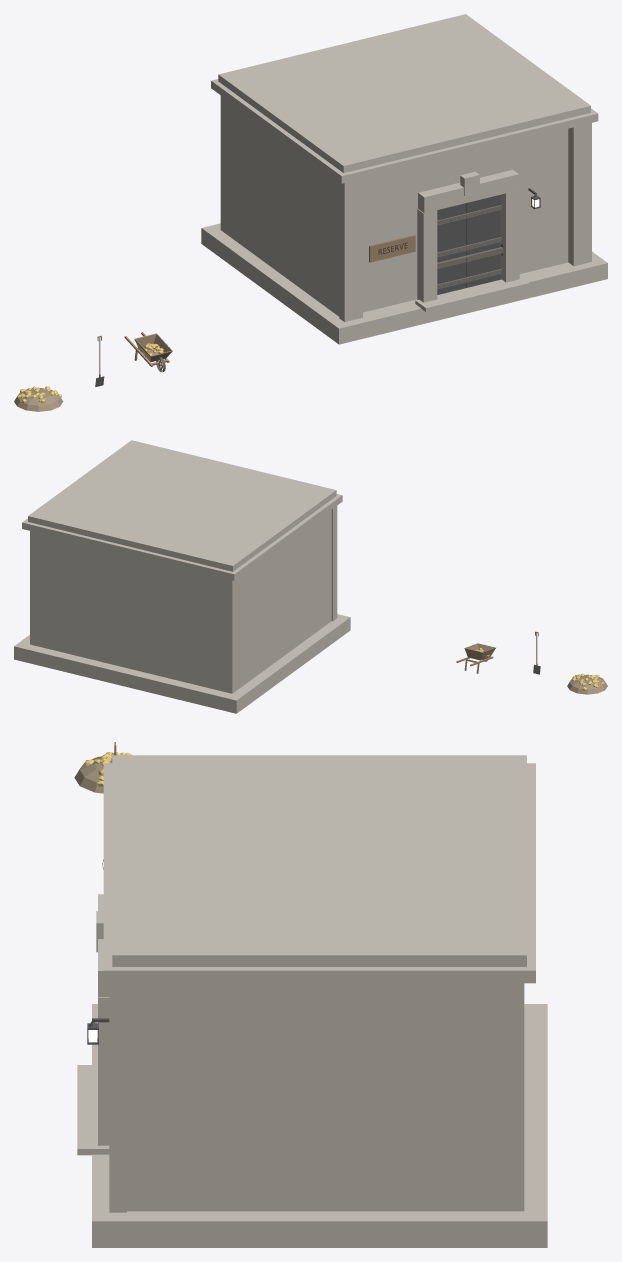
The model's file is stockpile_kit.glb.
3 renders of one model, top to bottom at view 1: azimuth 30°, elevation 25°; view 2: azimuth 150°, elevation 25°; view 3: azimuth 270°, elevation 25°, orthographic. The views are drawn at different scales.
Visible parts, largest first — view 1: Reserve_Stone, Reserve_Door, Reserve_Bands, Reserve_Placard, Barrow_Frame, Heap_Dirt; view 2: Reserve_Stone, Barrow_Frame, Heap_Dirt; view 3: Reserve_Stone, Heap_Dirt.
Part boxes in pixels (x1=…): Reserve_Stone: x1=201, y1=14, x2=607, y2=344; Reserve_Door: x1=437, y1=195, x2=500, y2=294; Reserve_Bands: x1=437, y1=205, x2=503, y2=289; Reserve_Placard: x1=369, y1=235, x2=415, y2=262; Barrow_Frame: x1=124, y1=332, x2=172, y2=366; Heap_Dirt: x1=14, y1=387, x2=63, y2=411; Reserve_Stone: x1=14, y1=440, x2=350, y2=713; Barrow_Frame: x1=456, y1=643, x2=495, y2=673; Heap_Dirt: x1=567, y1=674, x2=607, y2=694; Reserve_Stone: x1=77, y1=755, x2=547, y2=1247; Heap_Dirt: x1=74, y1=756, x2=112, y2=793.
Size of the model in its own units: 19.1 by 5.36 by 8.1.
